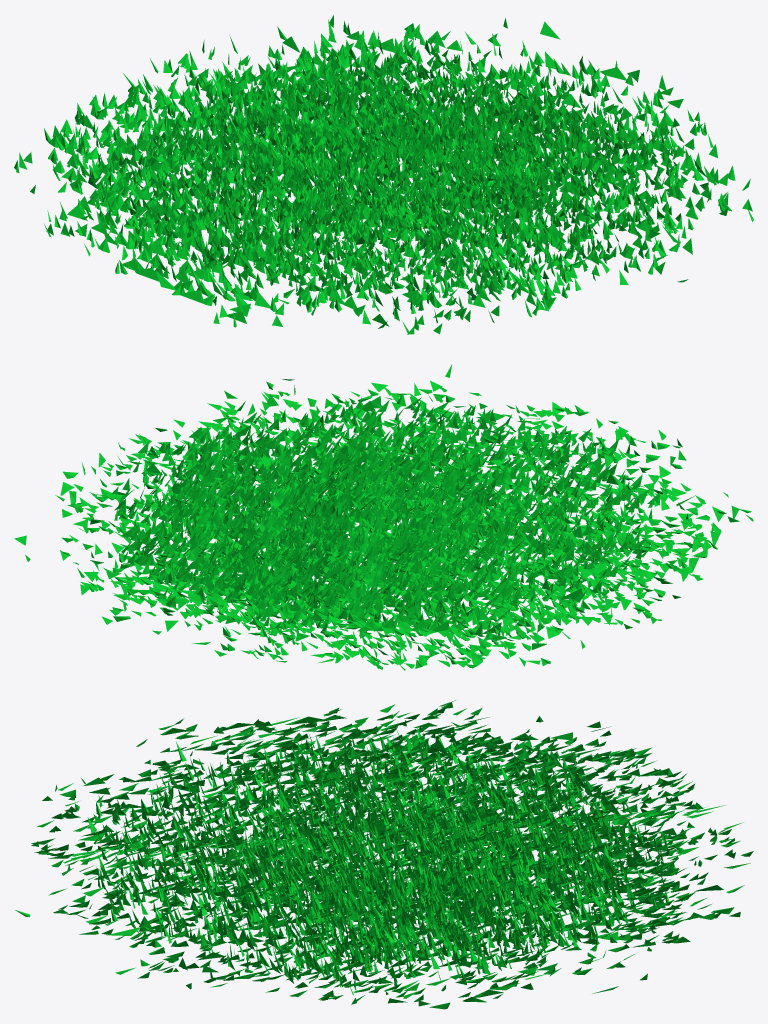
The model's file is grassUpdated.FBX.
3 renders of one model, top to bottom at view 1: azimuth 30°, elevation 25°; view 2: azimuth 150°, elevation 25°; view 3: azimuth 270°, elevation 25°, orthographic. The views are drawn at different scales.
Parts seen in each view (by area): view 1: Grass2031, Grass2032; view 2: Grass2032, Grass2031; view 3: Grass2031, Grass2032.
Part boxes in pixels (x1,y1,x2,y2): Grass2031: (14,15,753,334); Grass2032: (97,48,716,310); Grass2032: (112,393,695,639); Grass2031: (14,364,753,670); Grass2031: (15,700,753,1009); Grass2032: (87,727,671,995).
Size of the model in its own units: 204 by 3.68 by 210.
